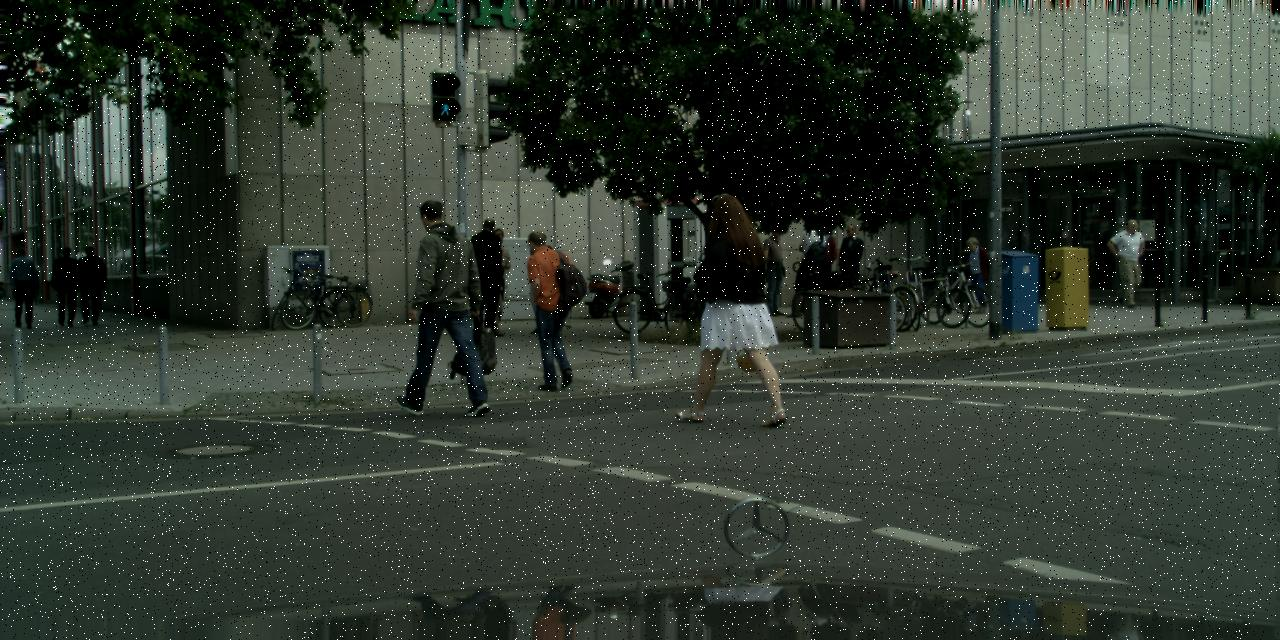ped: (682, 193, 775, 421), (394, 199, 482, 412), (516, 230, 581, 388), (464, 217, 512, 335), (520, 230, 562, 332), (790, 214, 830, 316), (475, 227, 515, 326), (756, 225, 792, 316), (806, 223, 842, 309), (832, 224, 867, 310), (1109, 219, 1144, 303), (6, 246, 38, 326), (50, 247, 82, 324), (74, 246, 105, 323), (960, 236, 990, 312)
